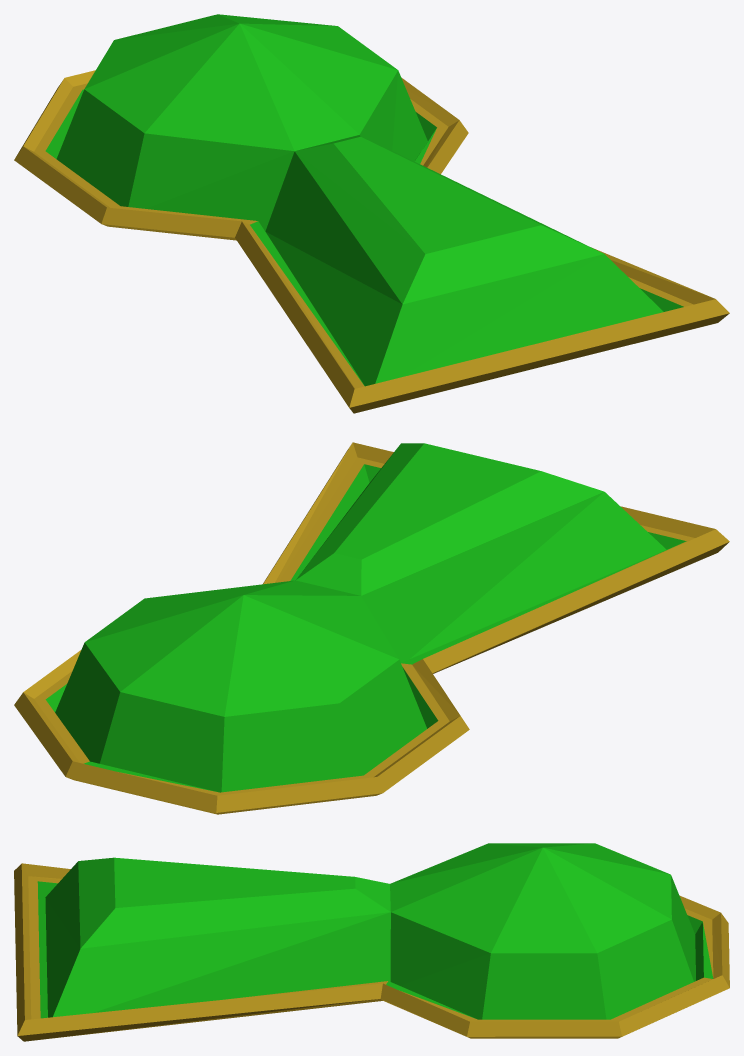
Rendered from KeyholePin.fbx.
3 views of the same model, one above another, from view 1: azimuth 30°, elevation 25°; view 2: azimuth 150°, elevation 25°; view 3: azimuth 270°, elevation 25° (orthographic). The views are drawn at different scales.
Visible parts, largest first — view 1: Keyhole_Pi, BottomKey; view 2: Keyhole_Pi, BottomKey; view 3: Keyhole_Pi, BottomKey.
Boxes of the visible parts, bbox=[...] form: Keyhole_Pi: bbox=[45, 14, 683, 386]; BottomKey: bbox=[14, 70, 729, 413]; Keyhole_Pi: bbox=[45, 443, 686, 792]; BottomKey: bbox=[14, 442, 729, 814]; Keyhole_Pi: bbox=[37, 843, 713, 1019]; BottomKey: bbox=[14, 863, 729, 1041].
Size of the model in its own units: 6 by 1.94 by 11.
